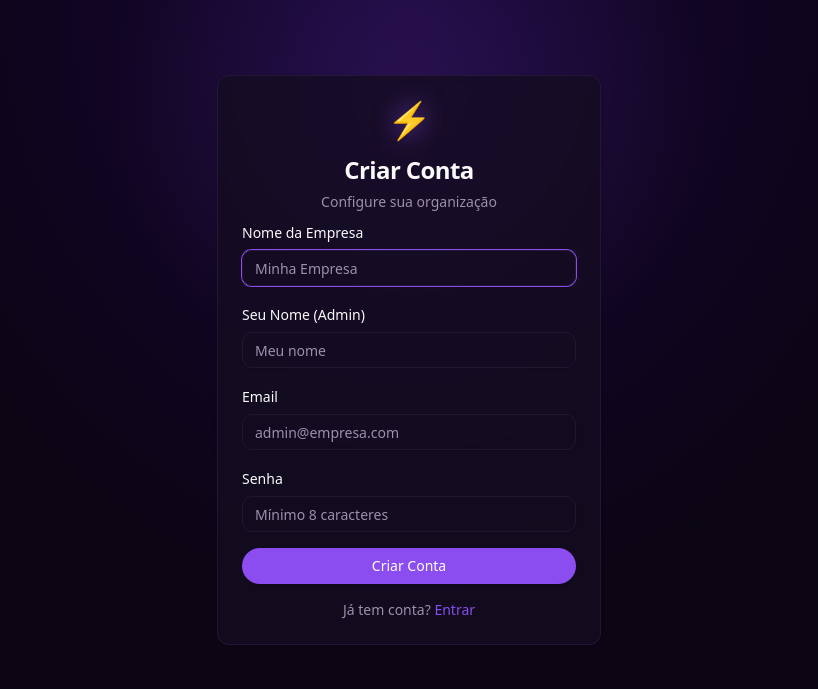
Test: Register Page › deve exibir erro ao criar empresa com dados inválidos
Step 1. Type "Tech Corp" into the field labelled "Nome da Empresa" → [409, 268], box 242,250 -> 576,286
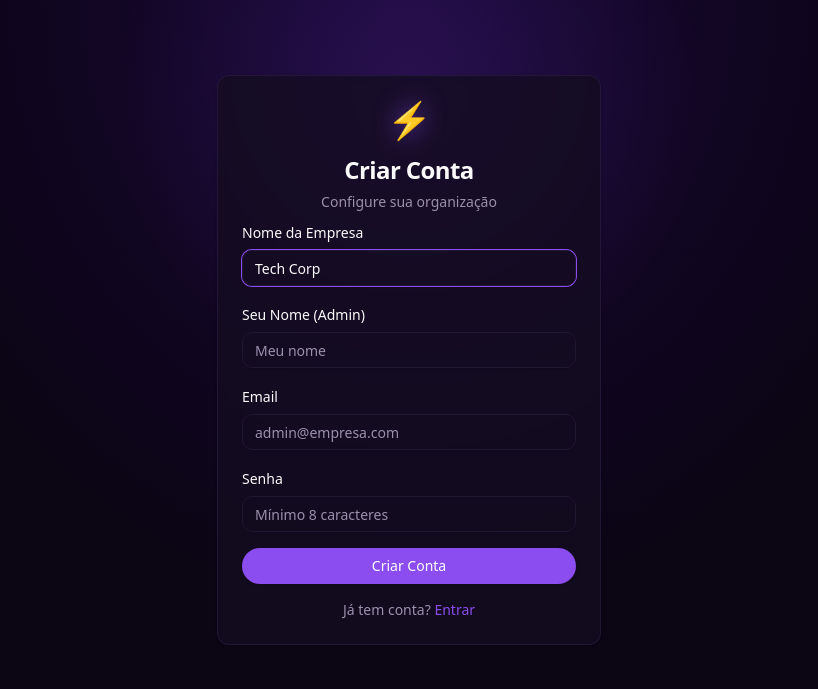
Step 2. Type "João Silva" into the field labelled "Seu Nome (Admin)" → [409, 350], box 242,332 -> 576,368
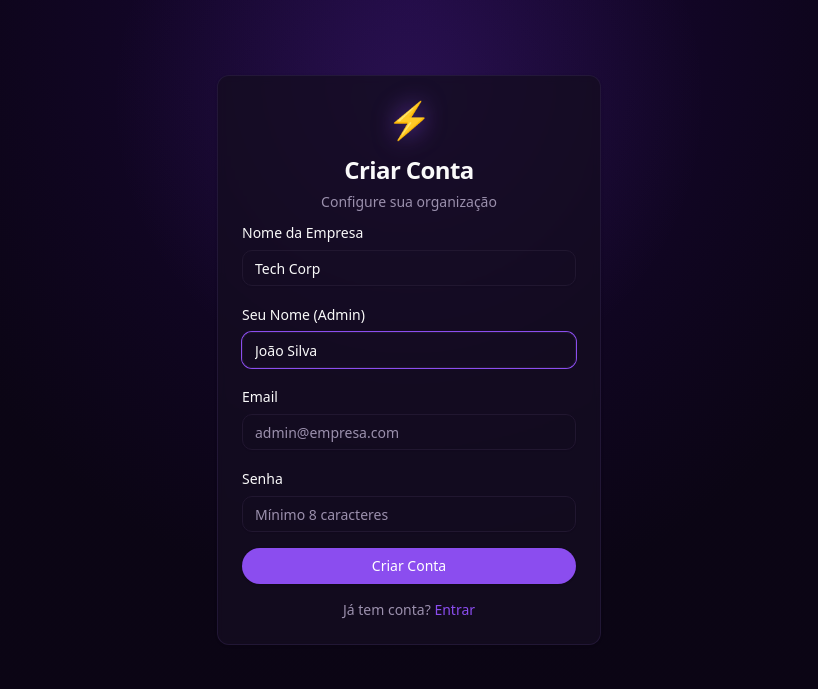
Step 3. Type "existing@email.com" into the field labelled "Email" → [409, 432], box 242,414 -> 576,450
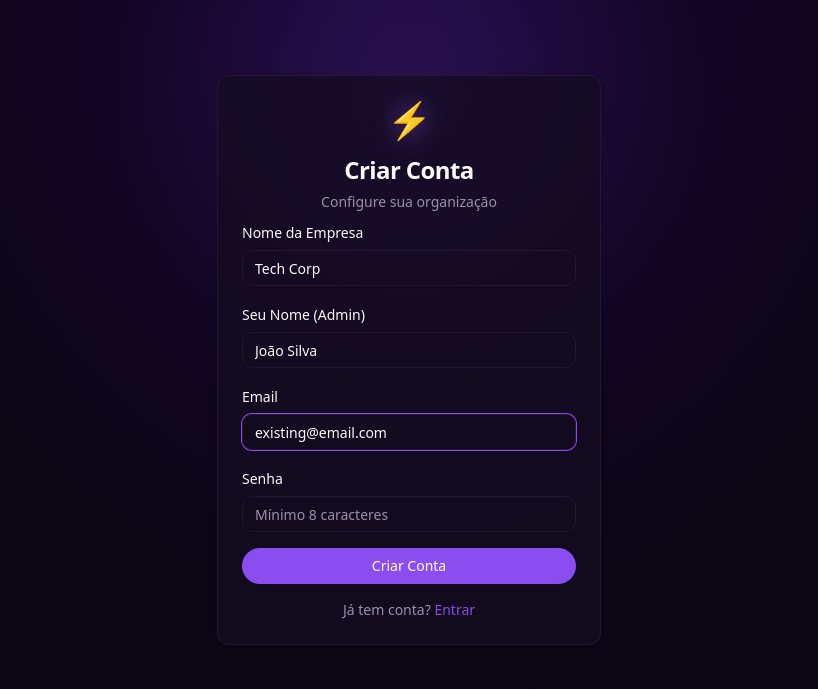
Step 4. Type "SecurePass123" into the password field labelled "Senha" → [409, 514], box 242,496 -> 576,532
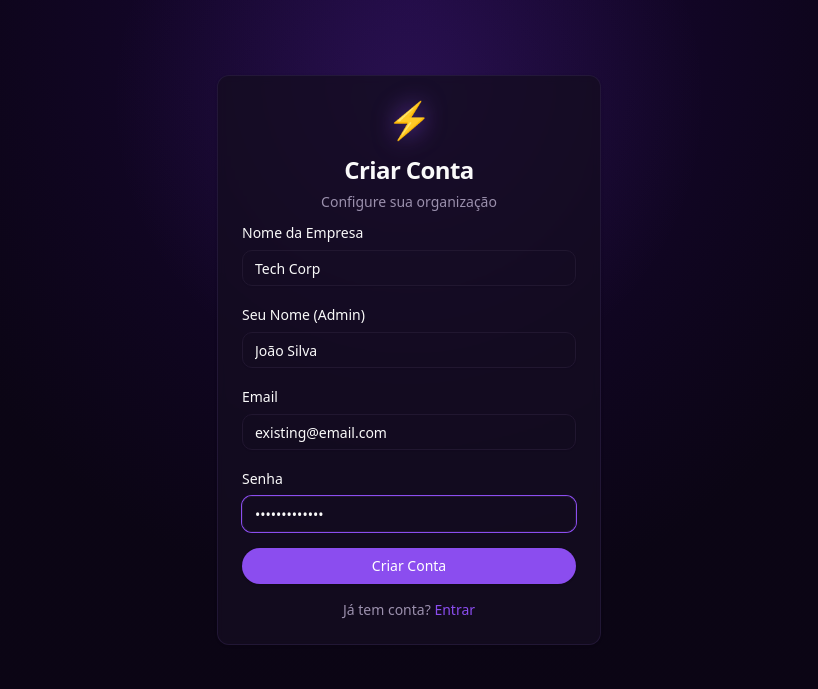
Step 5. Click the button "Criar Conta" → [409, 566], box 242,548 -> 576,584
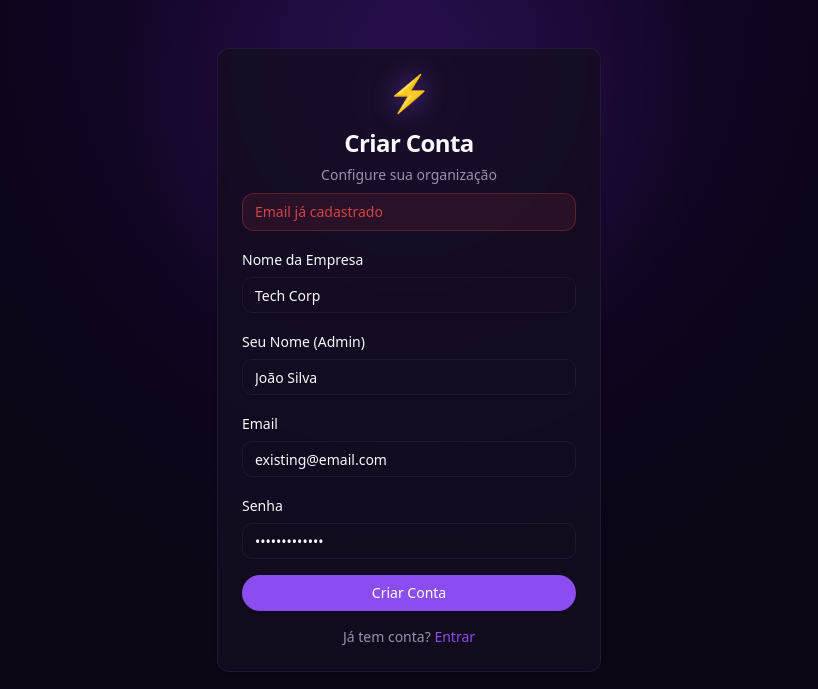
Check: the text "Email já cadastrado" is shown, box 242,193 -> 576,231
